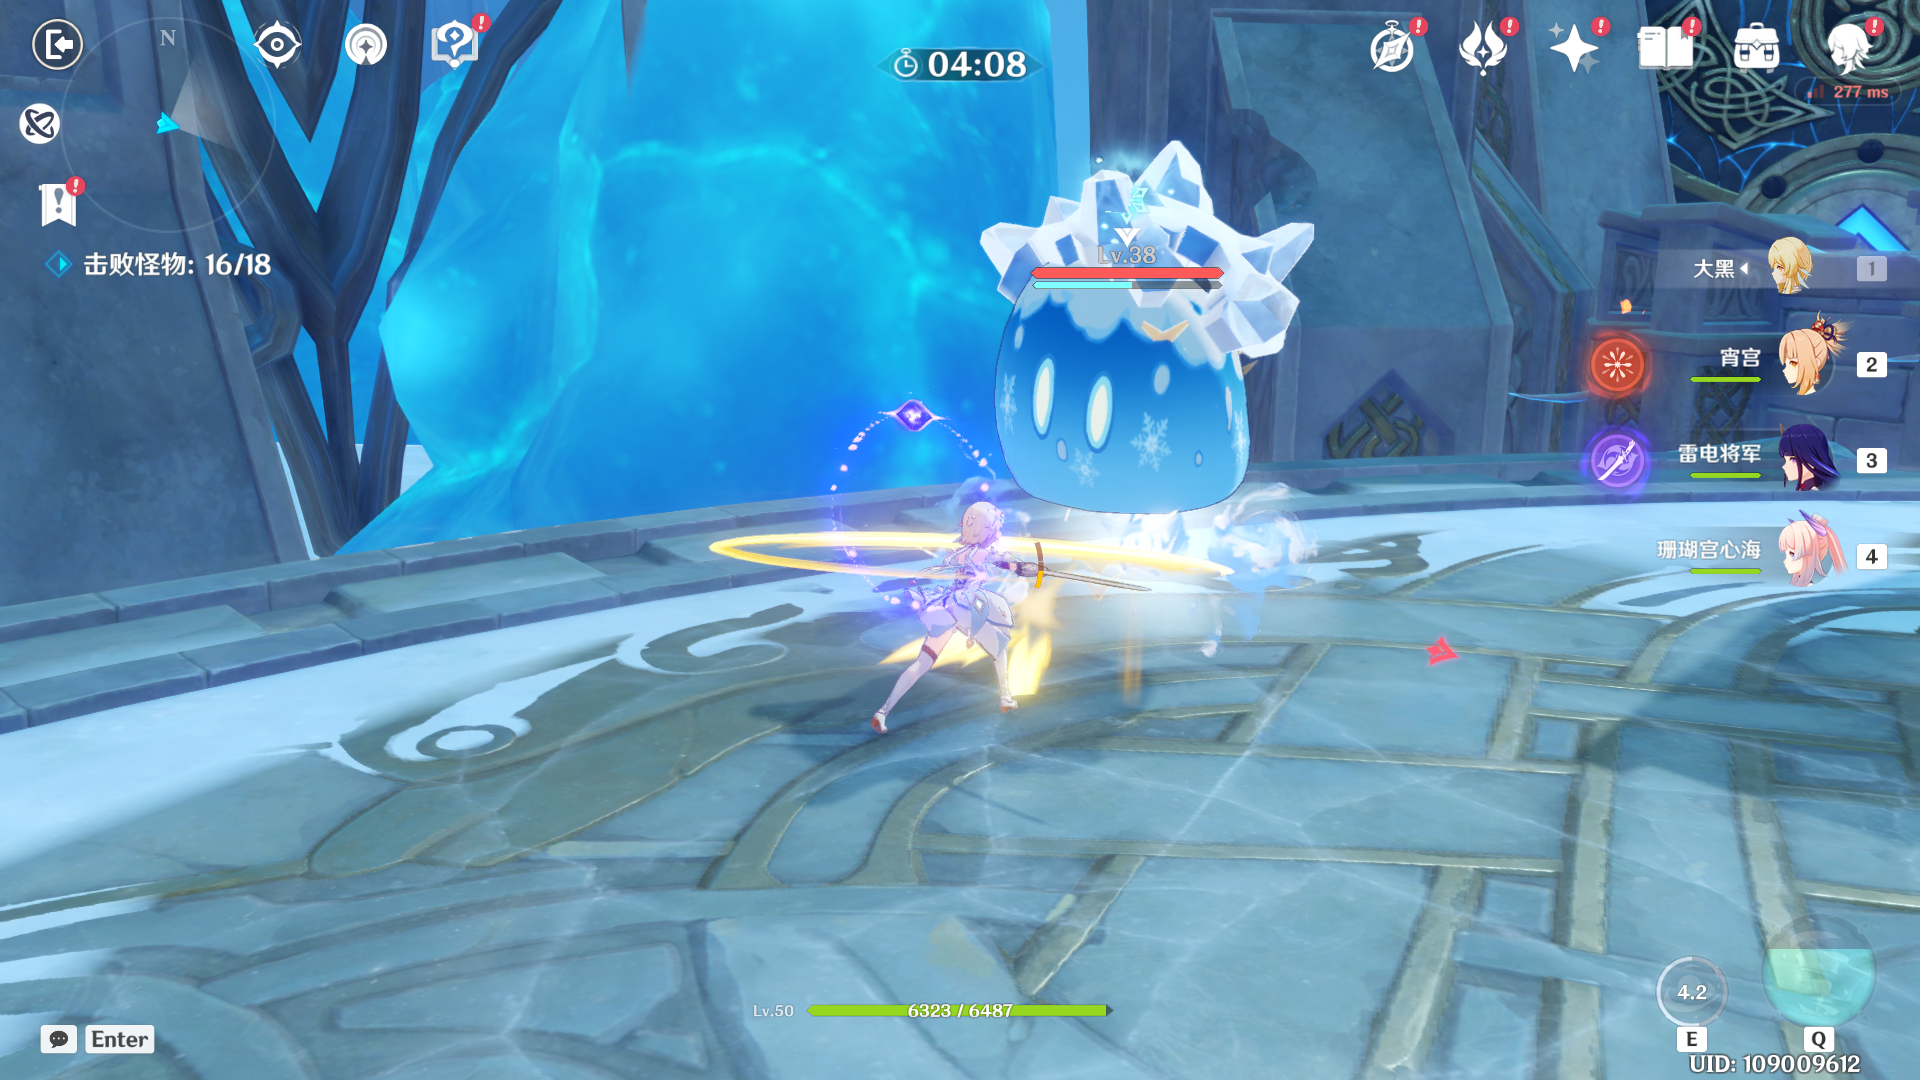character: (841, 487, 1131, 756)
slime: (934, 170, 1335, 527)
